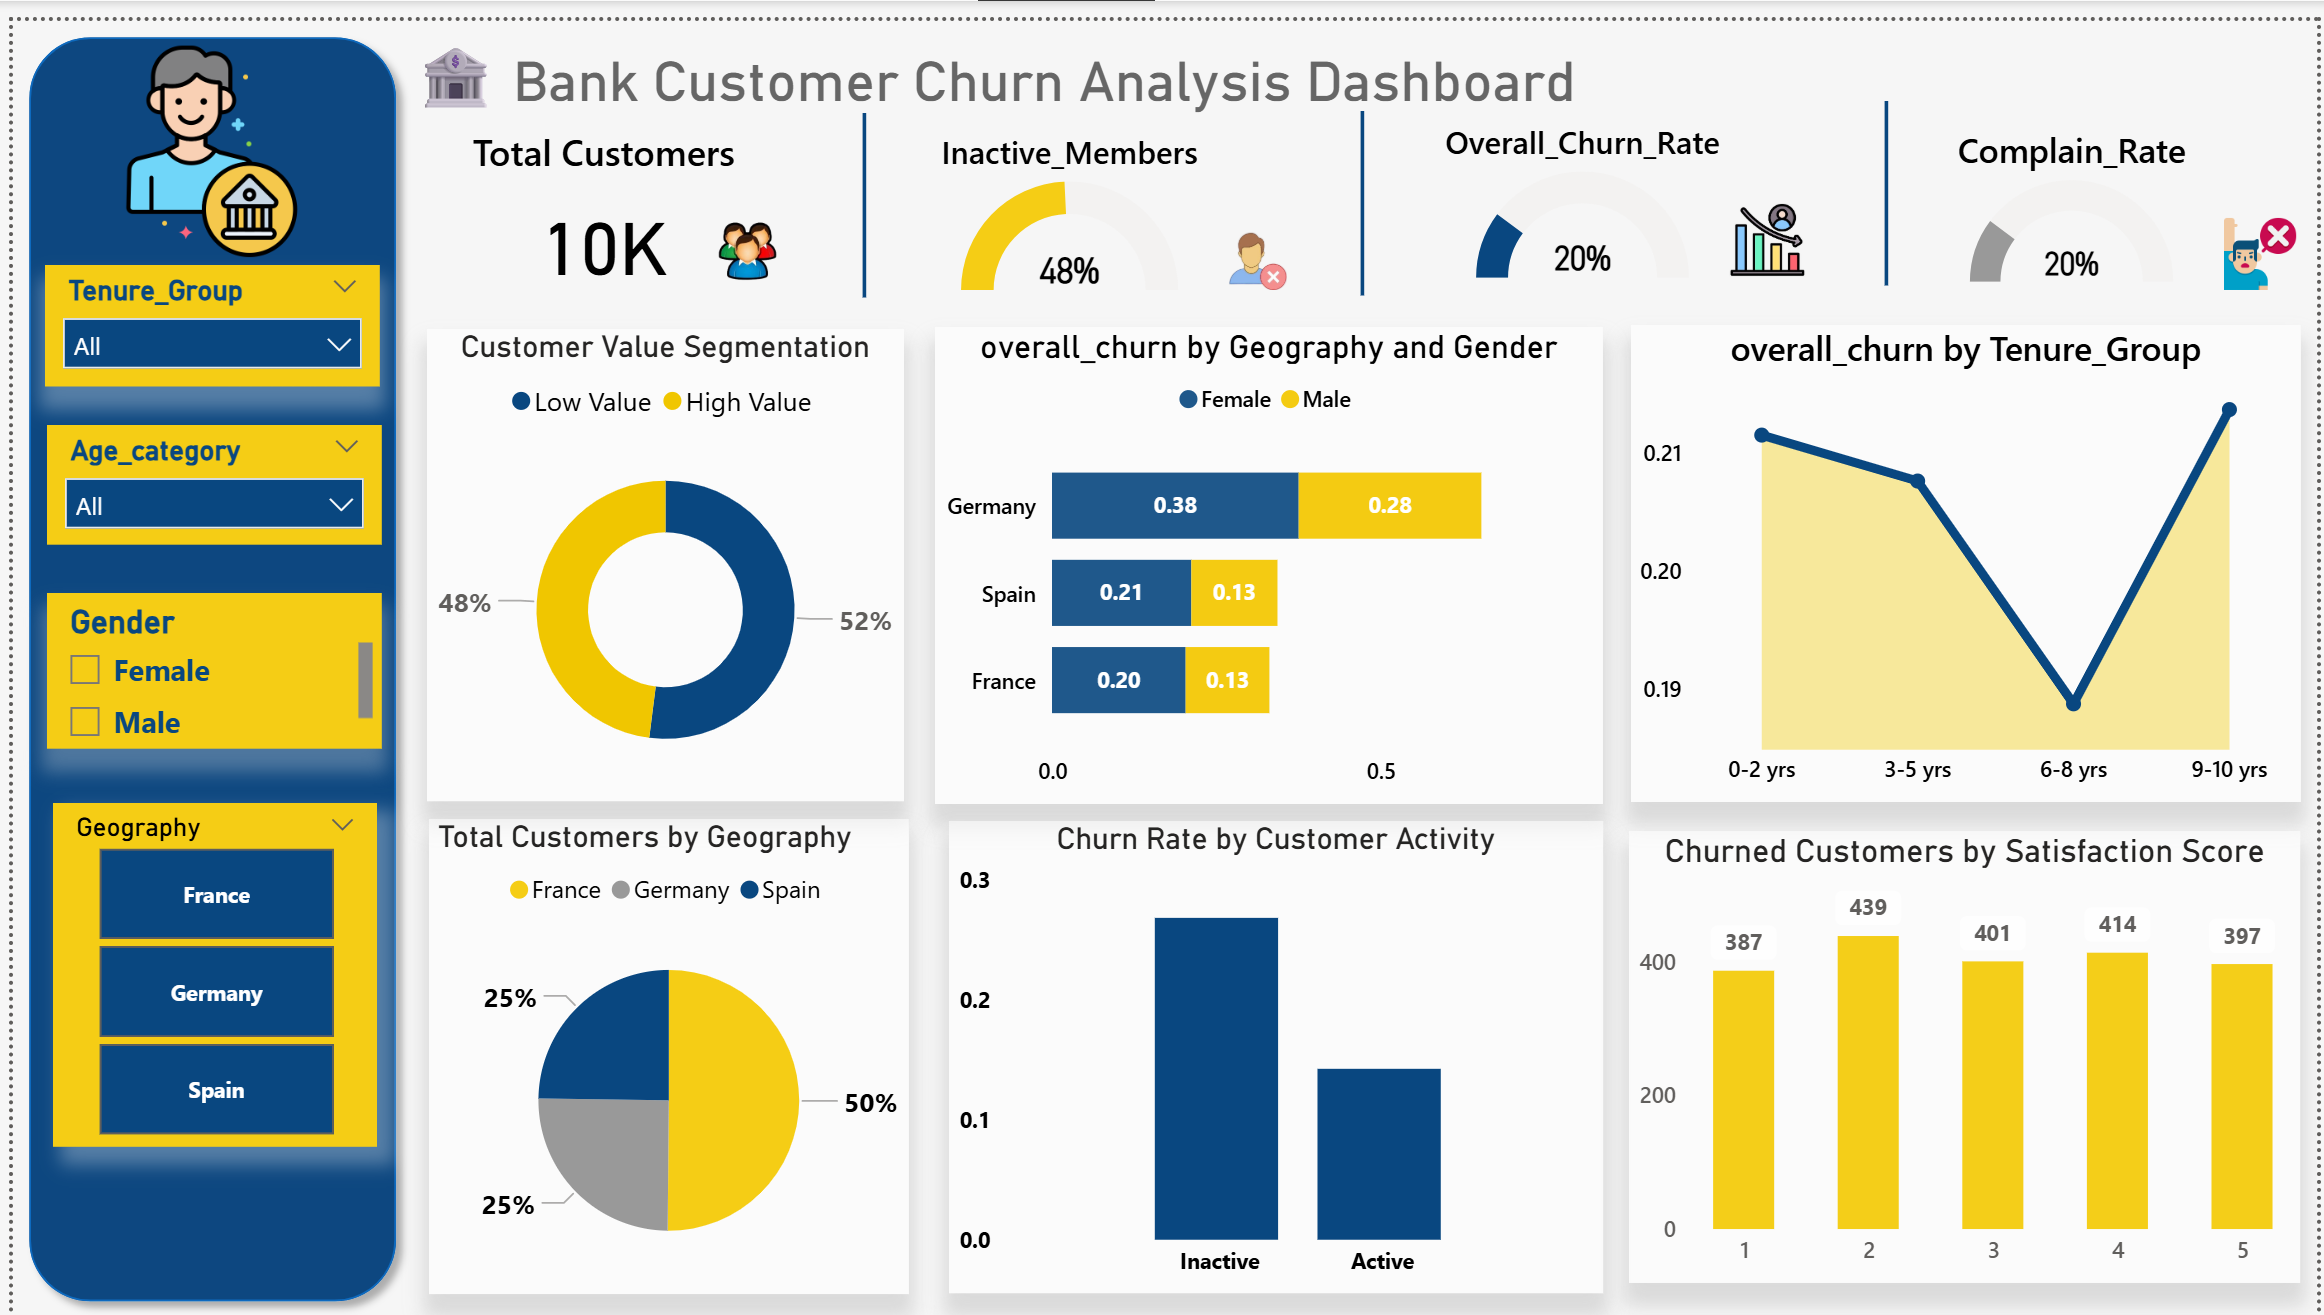

This screenshot's page, from the dashboard's own definition file:
{"tool":"powerbi","page":{"name":"Page 1","canvas":[1280,720],"ordinal":0},"visuals":[{"type":"shape","title":"🏦 Bank Customer Churn Analysis Dashboard","box":[222.3,6.9,685.4,48.4],"z":0},{"type":"card","title":"Total Customers","fields":{"Values":["Measure_Table.Total Customers"]},"box":[222.3,58.8,212,100.2],"z":1000},{"type":"lineChart","fields":{"Category":["shania customer_churn.Tenure_Group"],"Y":["Measure_Table.overall_churn"]},"box":[898.6,169.3,372.1,265],"z":2000},{"type":"barChart","fields":{"Series":["shania customer_churn.Gender"],"Category":["shania customer_churn.Geography"],"Y":["Measure_Table.overall_churn"]},"box":[512.6,170.5,370.9,265],"z":3000},{"type":"clusteredBarChart","fields":{"Category":["shania customer_churn.Age_category"],"Y":["Measure_Table.overall_churn"]},"box":[897.4,450.4,373.2,251.1],"z":4000},{"type":"gauge","title":"Overall_Churn_Rate","fields":{"Y":["Measure_Table.overall_churn"]},"box":[768.4,55.3,206.2,92.2],"z":5000},{"type":"gauge","title":"Complain_Rate","fields":{"Y":["Measure_Table.Complaint %"]},"box":[1040.3,58.8,207.4,91],"z":6000},{"type":"image","box":[1216.3,96.9,63.7,65],"z":7000},{"type":"image","box":[946.9,95.6,56.4,51.8],"z":8000},{"type":"image","box":[362.9,104.8,89.9,47.2],"z":9000},{"type":"gauge","title":"Inactive_Members","fields":{"Y":["Measure_Table.Inactive Member %"]},"box":[483.8,61.1,207.4,93.3],"z":10000},{"type":"image","box":[670.5,104.8,42.6,57.6],"z":11000},{"type":"shape","box":[74.6,84.1,12.7,103.3],"z":12000},{"type":"shape","box":[1034.5,44.9,12.7,102.5],"z":13000},{"type":"shape","box":[0,0,221.8,720.3],"z":14000},{"type":"donutChart","title":"Customer Value Segmentation","fields":{"Category":["shania customer_churn.Value Segment"],"Y":["Measure_Table.Total Customers"]},"box":[230.4,171.6,265,262.7],"z":15000},{"type":"pieChart","fields":{"Category":["shania customer_churn.Geography"],"Y":["Measure_Table.Total Customers"]},"box":[230.8,443.7,266.5,263.9],"z":16000},{"type":"shape","box":[743,49.5,12.7,102.5],"z":17000},{"type":"shape","box":[466.6,50.7,12.7,102.5],"z":18000},{"type":"clusteredColumnChart","title":"Churn Rate by Customer Activity","fields":{"Y":["Measure_Table.overall_churn"],"Category":["shania customer_churn.Active Status"]},"box":[520.2,444.9,363.3,262.6],"z":19000},{"type":"slicer","fields":{"Values":["shania customer_churn.Gender"]},"box":[19.1,317.5,186.1,86.7],"z":20000},{"type":"image","box":[47.2,6.4,127.5,131.3],"z":21000},{"type":"slicer","fields":{"Values":["shania customer_churn.Geography"]},"box":[21.7,434.7,179.8,191.2],"z":22000},{"type":"slicer","fields":{"Values":["shania customer_churn.Tenure_Group"]},"box":[17.8,135.1,186.1,67.6],"z":23000},{"type":"slicer","fields":{"Values":["shania customer_churn.Age_category"]},"box":[19.1,224.4,186.1,66.3],"z":24000}]}

Visuals, with their boxes in screenshot pixels (x1, y1, x2, y2), scaled from the page's 1280x720 canvas onto the 2324x1315 screenshot:
"🏦 Bank Customer Churn Analysis Dashboard" shape: 404, 13, 1648, 101
"Total Customers" card: 404, 107, 789, 290
lineChart - shania customer_churn.Tenure_Group x Measure_Table.overall_churn: 1632, 309, 2307, 793
barChart - shania customer_churn.Gender x shania customer_churn.Geography: 931, 311, 1604, 795
clusteredBarChart - shania customer_churn.Age_category x Measure_Table.overall_churn: 1629, 823, 2307, 1281
"Overall_Churn_Rate" gauge: 1395, 101, 1770, 269
"Complain_Rate" gauge: 1889, 107, 2265, 274
image: 2208, 177, 2323, 296
image: 1719, 175, 1822, 269
image: 659, 191, 822, 278
"Inactive_Members" gauge: 878, 112, 1255, 282
image: 1217, 191, 1295, 297
shape: 135, 154, 159, 342
shape: 1878, 82, 1901, 269
shape: 0, 0, 403, 1314
"Customer Value Segmentation" donutChart: 418, 313, 899, 793
pieChart - shania customer_churn.Geography x Measure_Table.Total Customers: 419, 810, 903, 1292
shape: 1349, 90, 1372, 278
shape: 847, 93, 870, 280
"Churn Rate by Customer Activity" clusteredColumnChart: 944, 813, 1604, 1292
slicer - shania customer_churn.Gender: 35, 580, 373, 738
image: 86, 12, 317, 251
slicer - shania customer_churn.Geography: 39, 794, 366, 1143
slicer - shania customer_churn.Tenure_Group: 32, 247, 370, 370
slicer - shania customer_churn.Age_category: 35, 410, 373, 531
